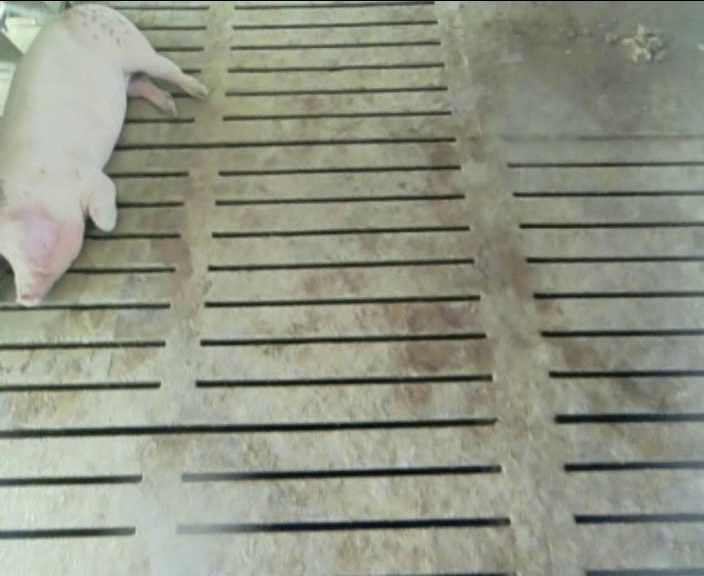pig: (0, 5, 207, 305)
